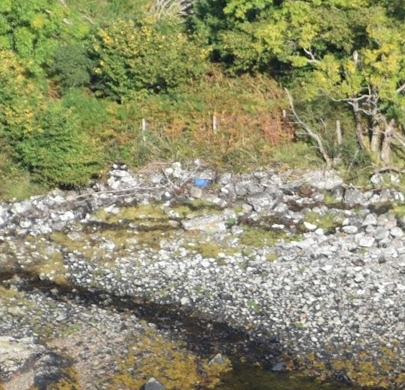white_in_green: (182, 164, 224, 202)
